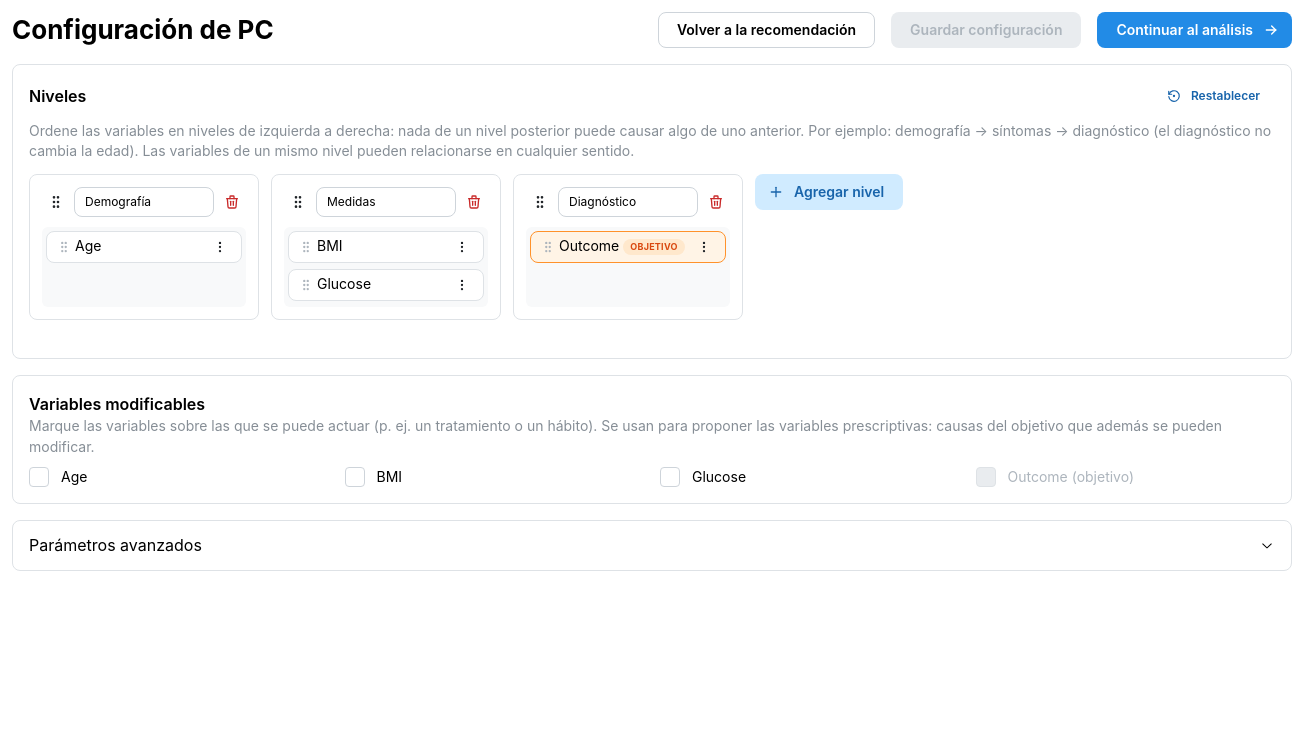
Test case: Configuración de PC › restablece los niveles a la plantilla
Expected: the field showing "Medidas" is shown, [316,187,456,217]
Click the button "Restablecer". click: (1216, 96)
box: [1156,81,1275,111]
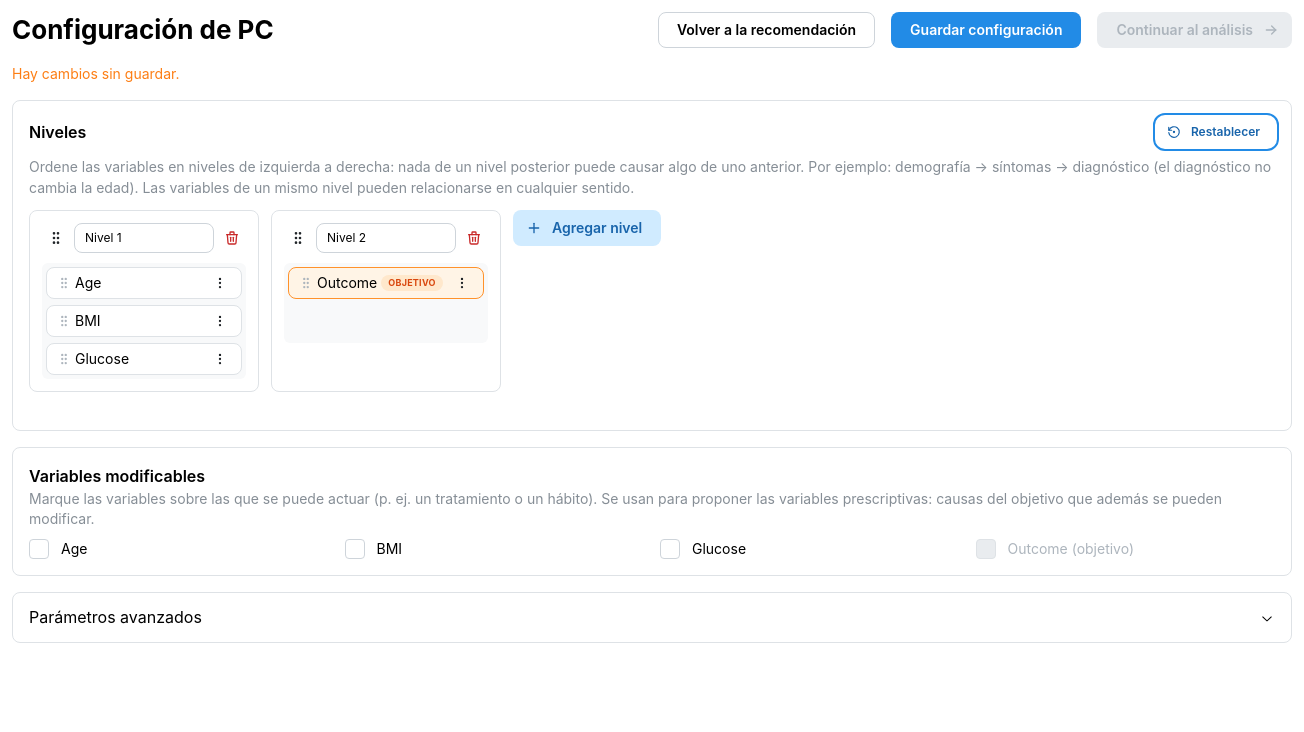
Expected: the field showing "Medidas" is not shown
Expected: the text "Hay cambios sin guardar." is shown, [12,65,179,82]
